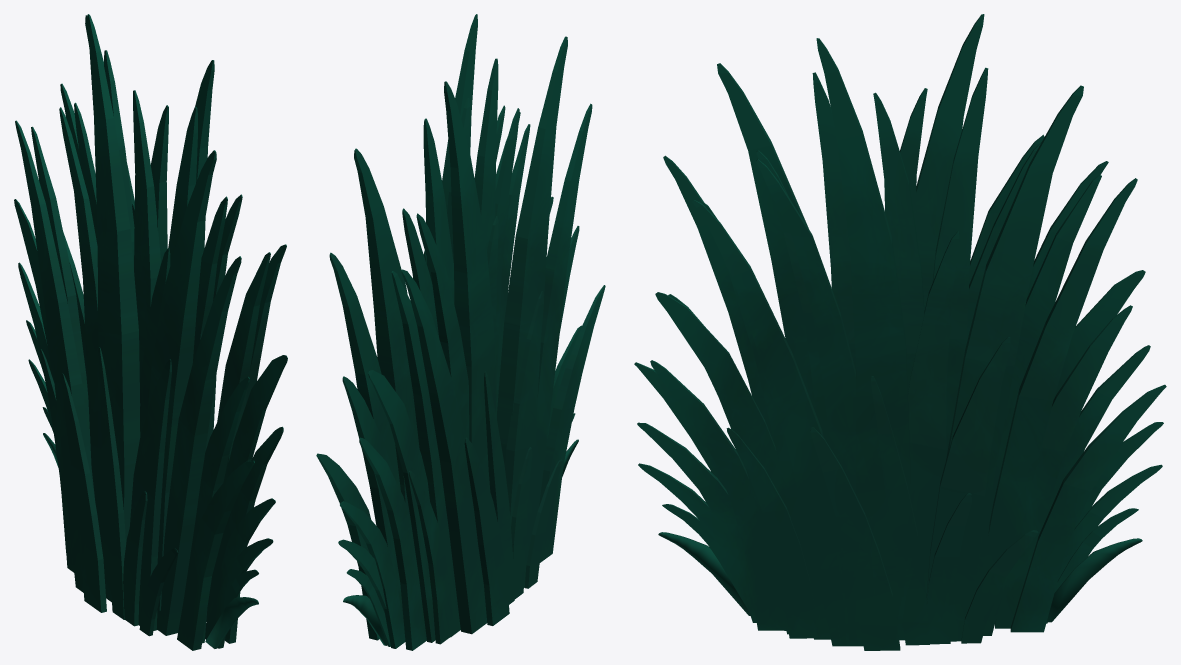
Rendered from Arbusto.fbx.
3 renders of one model, left to right at view 1: azimuth 30°, elevation 25°; view 2: azimuth 150°, elevation 25°; view 3: azimuth 270°, elevation 25°, orthographic. The views are drawn at different scales.
Visible parts, largest first — view 1: Arbusto; view 2: Arbusto; view 3: Arbusto.
Boxes of the visible parts, x1=… form: Arbusto: x1=14, y1=14, x2=287, y2=650; Arbusto: x1=316, y1=14, x2=605, y2=650; Arbusto: x1=634, y1=14, x2=1166, y2=650.
Size of the model in its own units: 67.89 by 368 by 297.
Materials: 1 (1 with a texture image).
